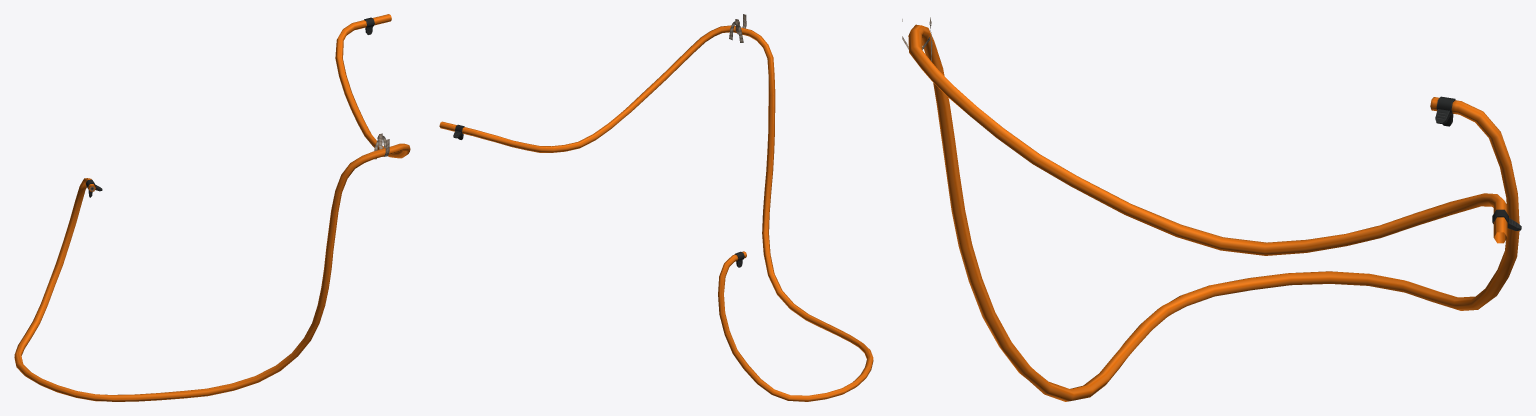
The model's file is jsf_GasRange_07b.fbx.
3 views of the same model, side by side, from view 1: azimuth 30°, elevation 25°; view 2: azimuth 150°, elevation 25°; view 3: azimuth 270°, elevation 25° (orthographic). The views are drawn at different scales.
Parts seen in each view (by area): view 1: GasHose; view 2: GasHose; view 3: GasHose.
Boxes of the visible parts, x1,y1,x2,y2 form: GasHose: [14, 14, 410, 401]; GasHose: [439, 14, 873, 401]; GasHose: [902, 17, 1521, 401].
Bounding box in the file's own units: 110 × 68.09 × 79.76.
